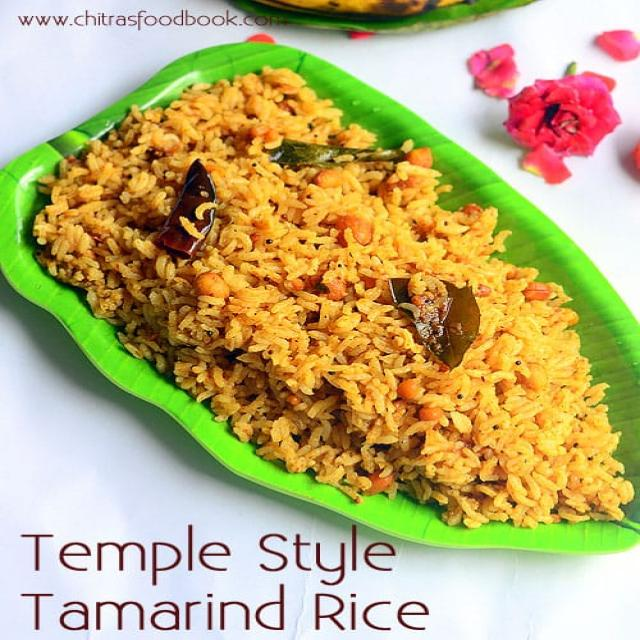puliyogare: (15, 64, 640, 549)
